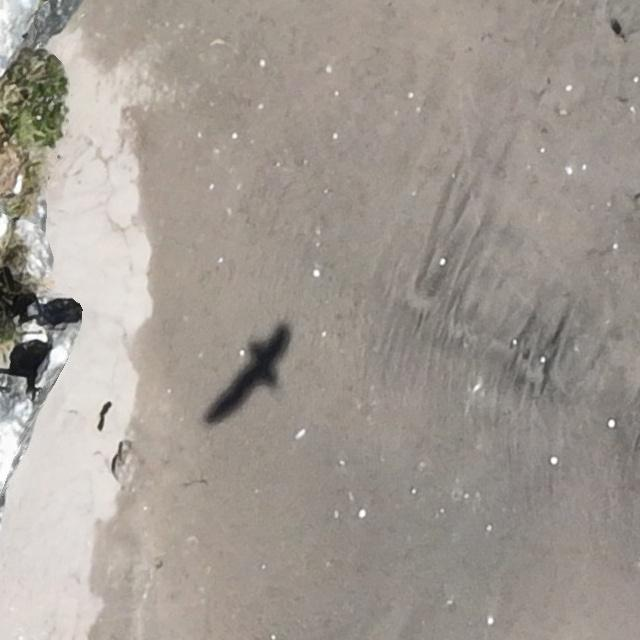umineko: (32, 347, 70, 391)
